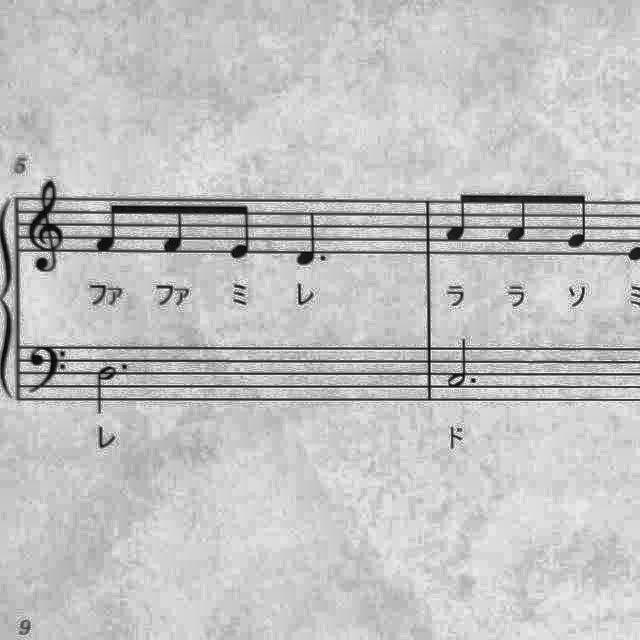Bass-clef: (22, 337, 74, 399)
Eighth-note: (222, 194, 262, 266), (88, 194, 128, 258), (560, 186, 596, 254), (438, 184, 474, 248), (158, 198, 194, 258), (502, 188, 536, 248)
Half-dot: (440, 334, 480, 394), (88, 358, 132, 412)
Quarter-dot: (292, 200, 332, 268)
Treble-clef: (22, 175, 74, 278)
